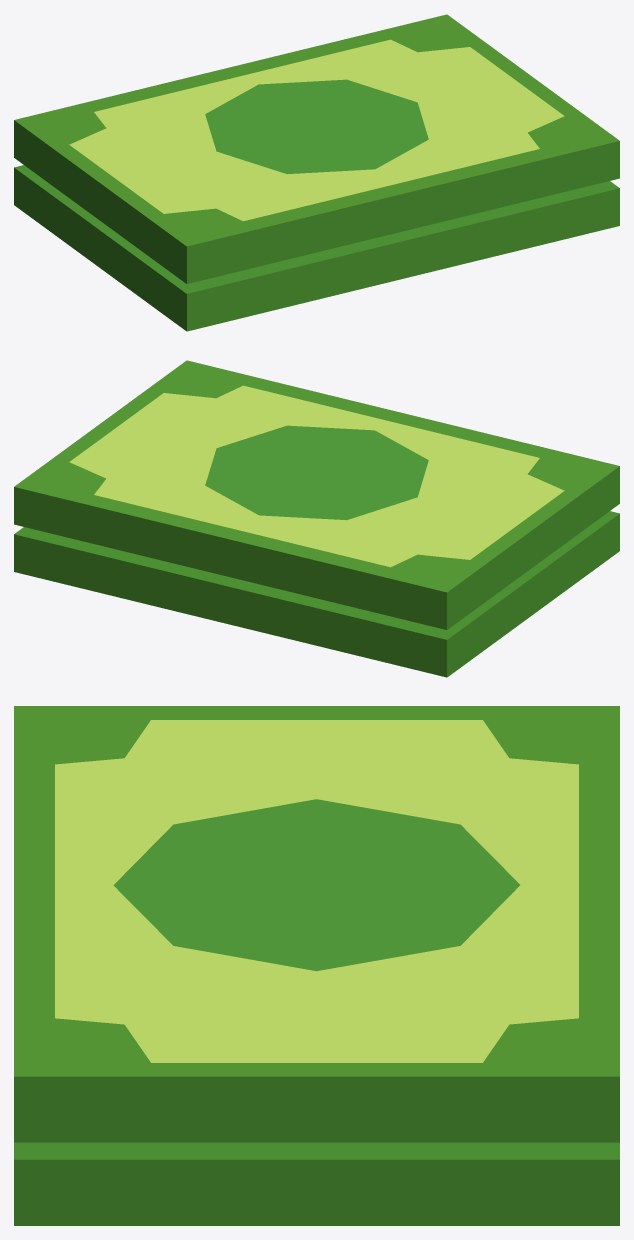
The model's file is Cash.fbx.
3 views of the same model, one above another, from view 1: azimuth 30°, elevation 25°; view 2: azimuth 150°, elevation 25°; view 3: azimuth 270°, elevation 25° (orthographic). The views are drawn at different scales.
Visible parts, largest first — view 1: Cash; view 2: Cash; view 3: Cash.
Boxes of the visible parts, left/top/right/bottom form: Cash: left=14, top=14, right=619, bottom=331; Cash: left=14, top=360, right=619, bottom=677; Cash: left=14, top=706, right=619, bottom=1225.
Size of the model in its own units: 124 by 24.23 by 85.66.
